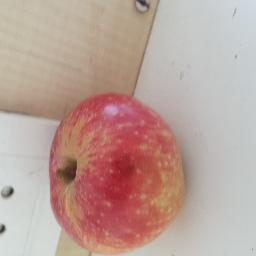Good_apple: (47, 88, 189, 254)
